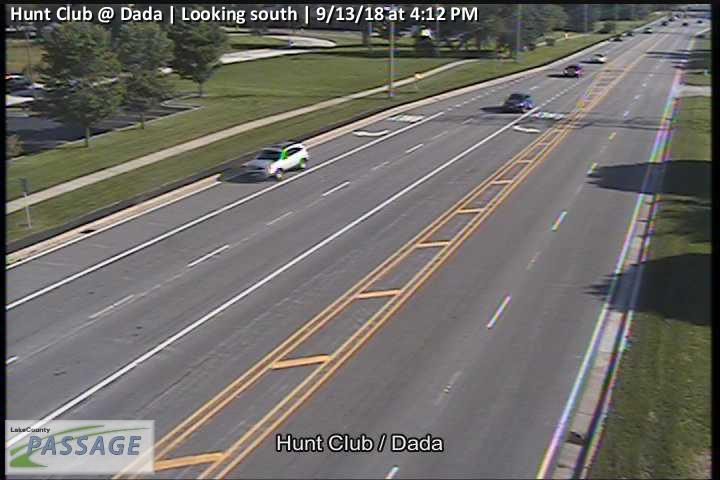Sedan: (239, 140, 309, 181), (502, 93, 534, 112), (562, 64, 583, 78), (590, 51, 607, 63)
